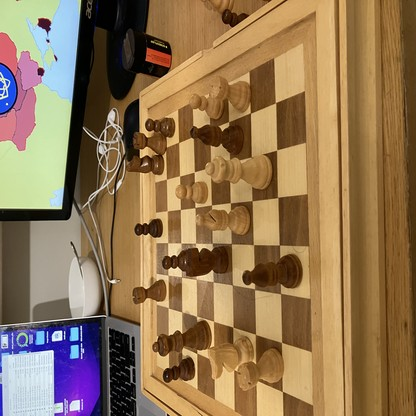bishop_black: (243, 255, 302, 288)
bishop_white: (190, 125, 244, 153), (196, 206, 249, 234)
knight_black: (186, 248, 228, 277), (127, 155, 164, 175)
knight_white: (208, 337, 254, 379)
pawn_black: (163, 356, 195, 384), (164, 249, 189, 272), (145, 118, 175, 137), (135, 219, 163, 237), (222, 10, 248, 27)
pawn_white: (190, 94, 225, 118), (176, 183, 208, 203)
queen_black: (153, 320, 212, 357)
queen_white: (206, 155, 272, 189)
rock_black: (133, 280, 166, 307), (132, 132, 167, 155)
rock_white: (238, 349, 284, 391), (209, 75, 251, 111)
